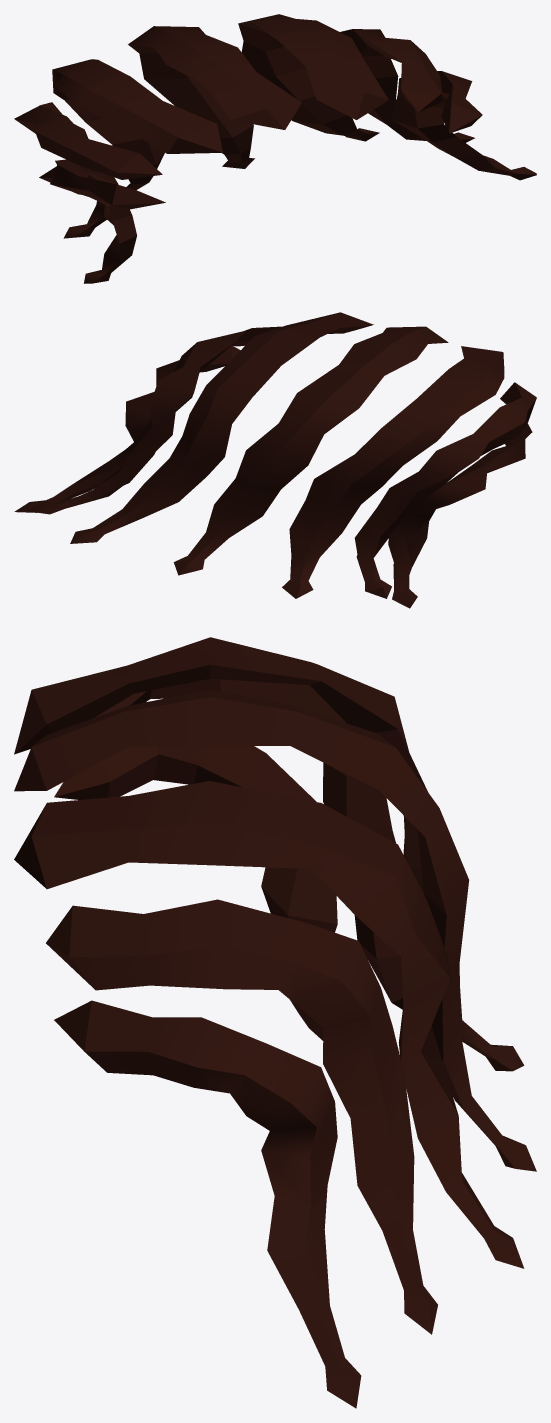
The model's file is Hair09.FBX.
3 renders of one model, top to bottom at view 1: azimuth 30°, elevation 25°; view 2: azimuth 150°, elevation 25°; view 3: azimuth 270°, elevation 25°, orthographic. The views are drawn at different scales.
Visible parts, largest first — view 1: Hair09; view 2: Hair09; view 3: Hair09.
Part boxes in pixels (x1,y1,x2,y2): Hair09: (14,14,536,283); Hair09: (14,312,536,608); Hair09: (14,637,536,1408).
Size of the model in its own units: 843 by 375 by 436.
